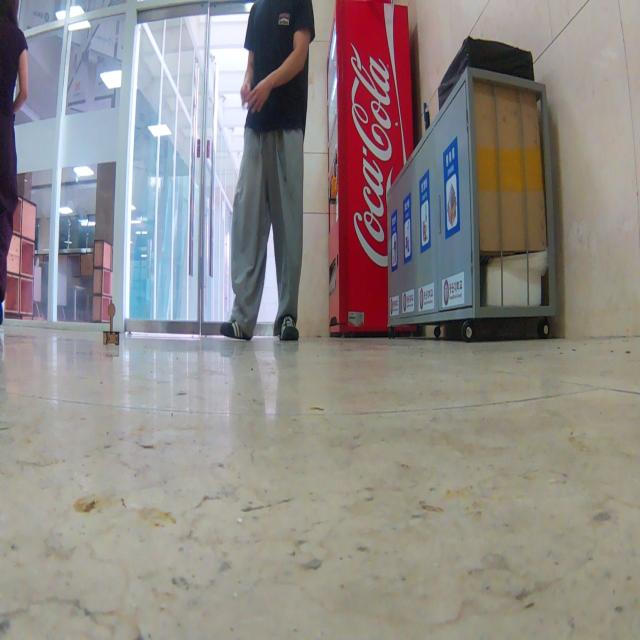target: (102, 303, 120, 345)
